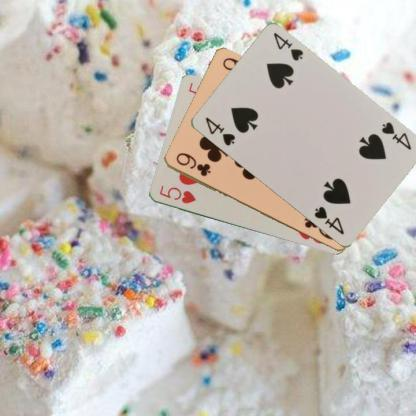4s: (202, 114, 236, 148), (378, 119, 412, 152)
5h: (156, 183, 196, 205)
9c: (173, 150, 211, 178)
